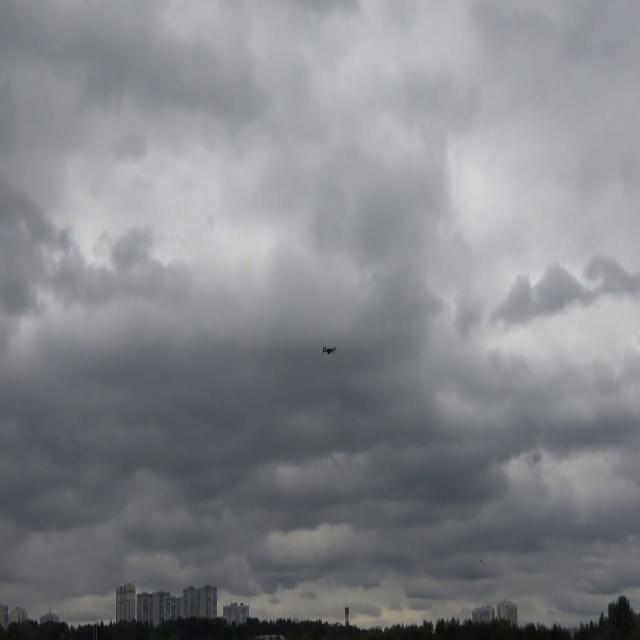Drons: (320, 345, 338, 358)
